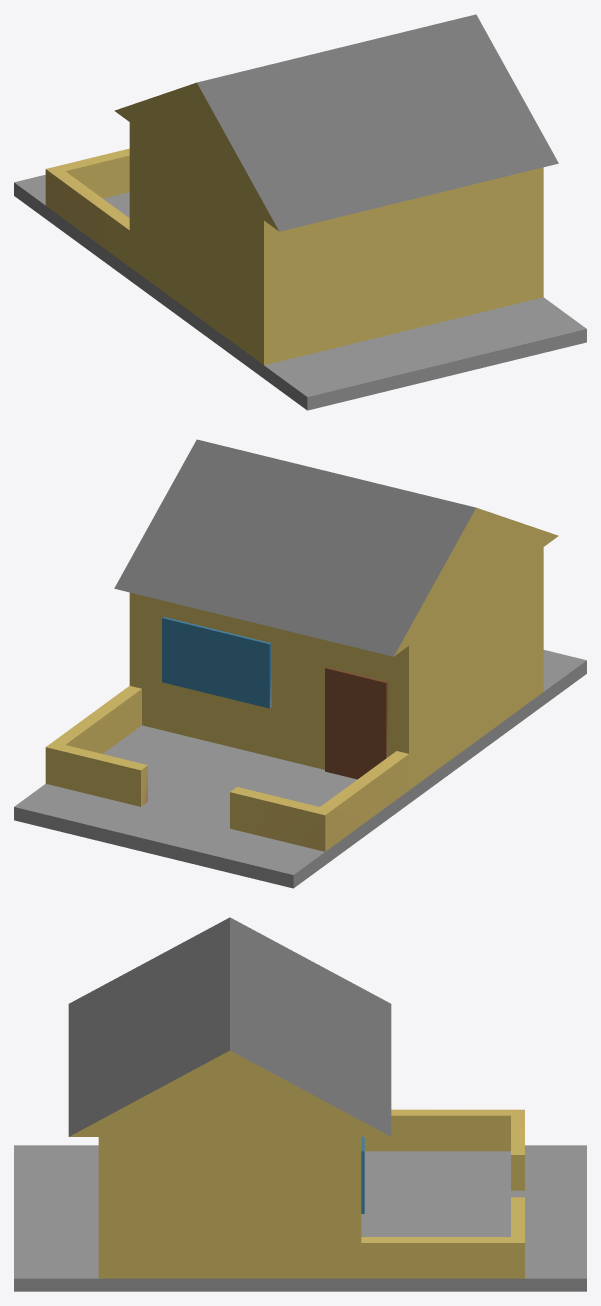
The model's file is House-2.FBX.
3 renders of one model, top to bottom at view 1: azimuth 30°, elevation 25°; view 2: azimuth 150°, elevation 25°; view 3: azimuth 270°, elevation 25°, orthographic. The views are drawn at different scales.
Parts seen in each view (by area): view 1: Casa; view 2: Casa; view 3: Casa.
Part boxes in pixels (box(x1,y1,x2,y2)): Casa: box(14, 14, 586, 410); Casa: box(14, 439, 586, 888); Casa: box(14, 917, 586, 1291).
Size of the model in its own units: 600 by 1091 by 507.
